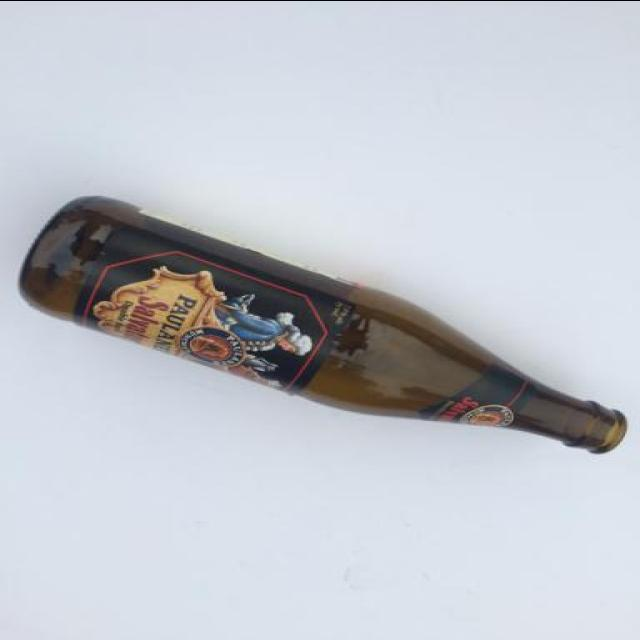glass: (17, 161, 626, 471)
